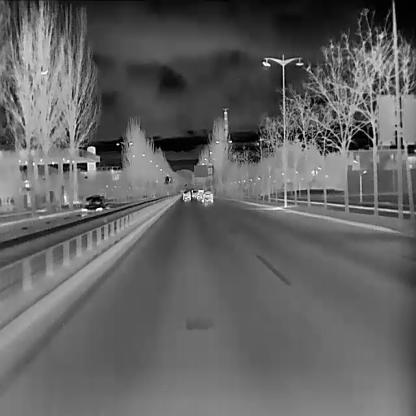car: (79, 193, 108, 217), (200, 189, 212, 203), (182, 188, 191, 200), (181, 187, 190, 198), (196, 188, 204, 198), (191, 188, 196, 197)
